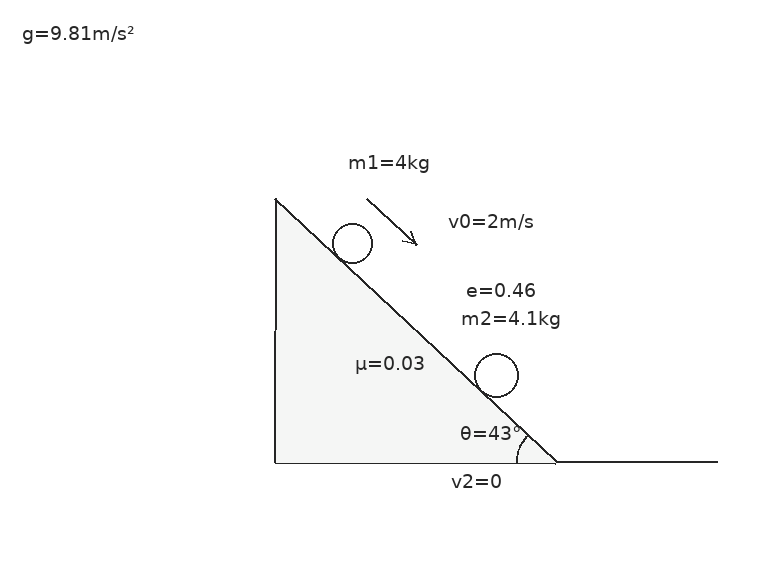ball: (472, 351, 520, 399), (330, 221, 374, 265)
ramp: (273, 197, 559, 464)
